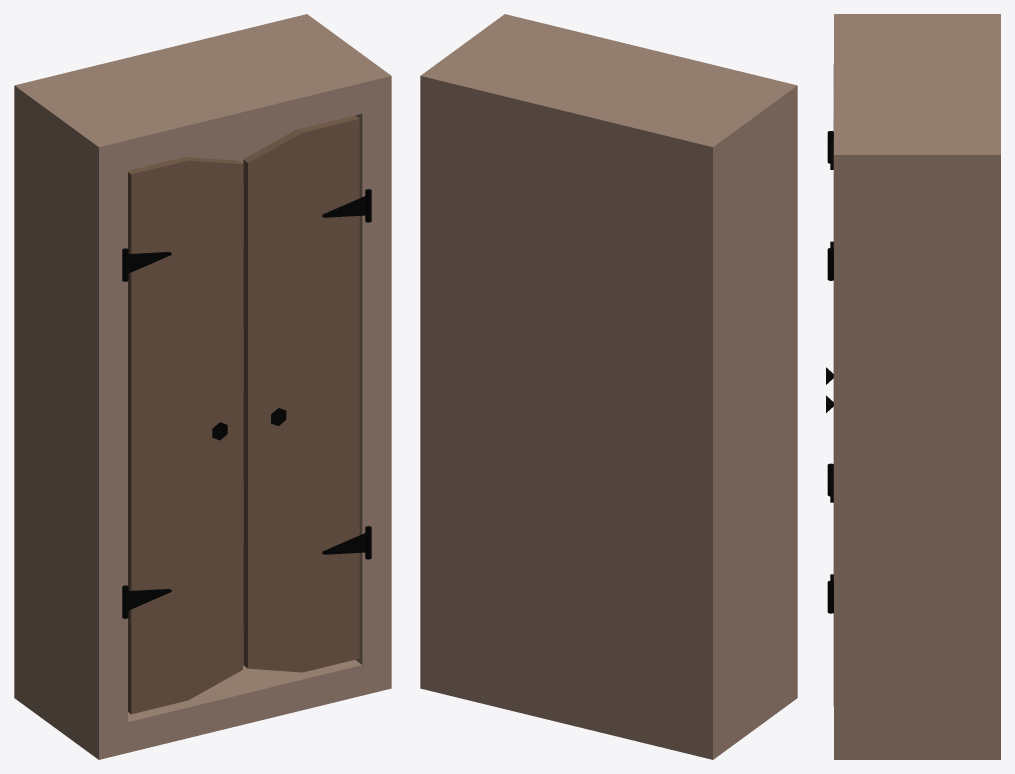
Rendered from DOLAP.fbx.
3 views of the same model, side by side, from view 1: azimuth 30°, elevation 25°; view 2: azimuth 150°, elevation 25°; view 3: azimuth 270°, elevation 25° (orthographic).
Visible parts, largest first — view 1: Dolap, Kapak Sağ, Kapak Sol; view 2: Dolap; view 3: Dolap, Kapak Sağ, Kapak Sol.
Part boxes in pixels (bbox=[...]): Dolap: bbox=[14, 14, 391, 759]; Kapak Sağ: bbox=[243, 115, 365, 672]; Kapak Sol: bbox=[128, 157, 242, 714]; Dolap: bbox=[420, 14, 797, 759]; Dolap: bbox=[827, 14, 1000, 759]; Kapak Sağ: bbox=[826, 140, 833, 706]; Kapak Sol: bbox=[826, 64, 833, 502].
Bounding box in the file's own units: 100 × 200 × 52.43.
